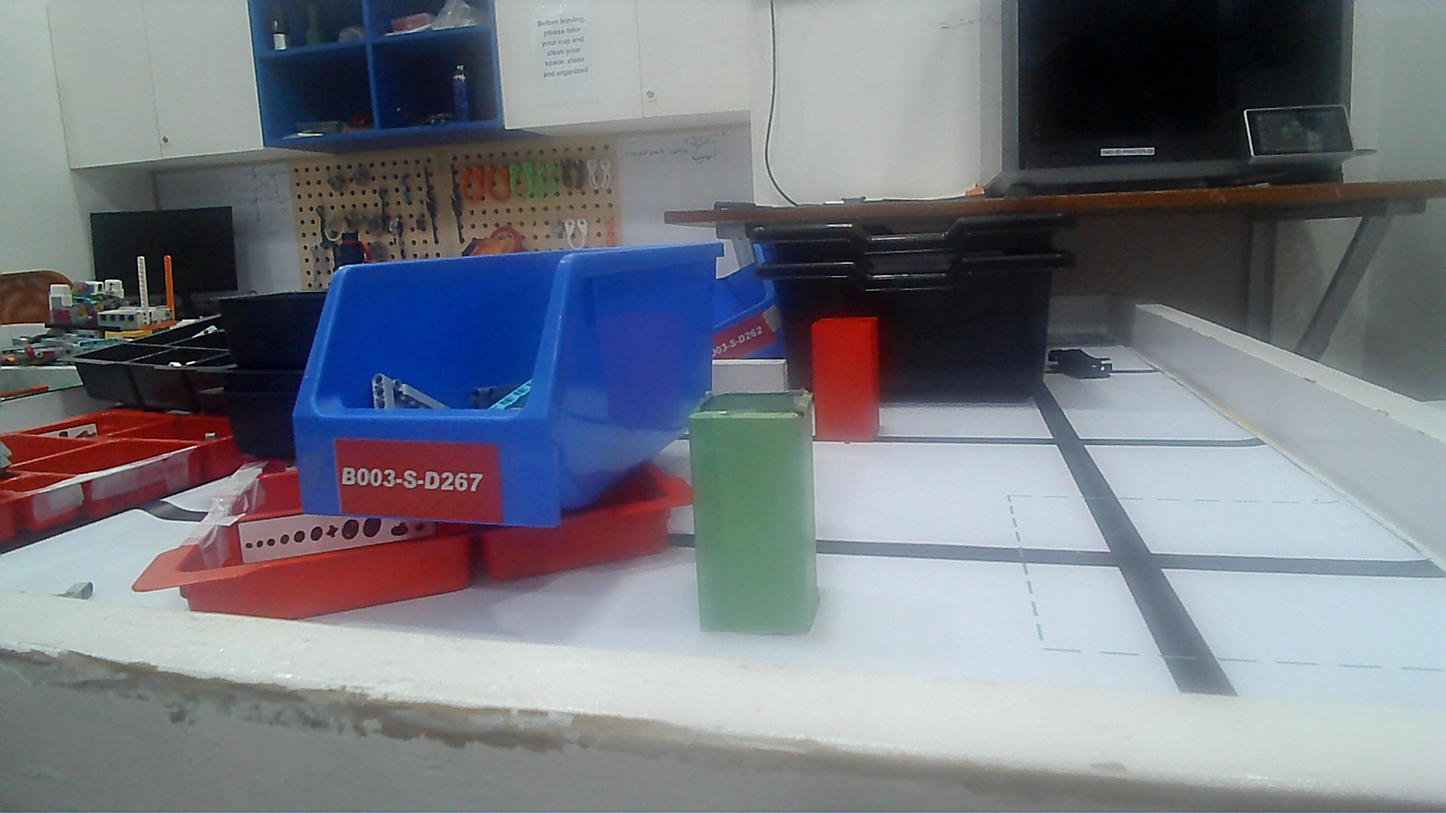green: (691, 391, 819, 631)
